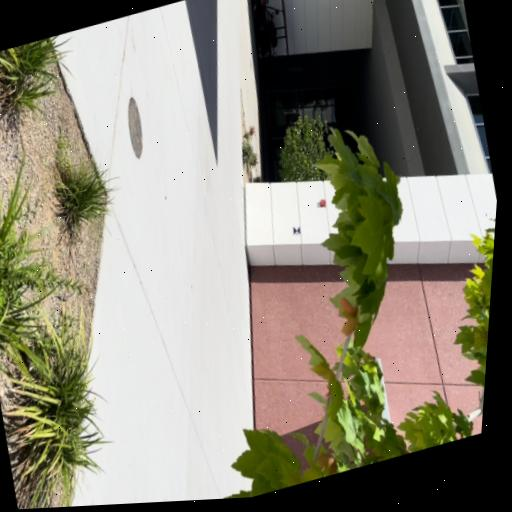target9: (293, 225, 300, 235)
